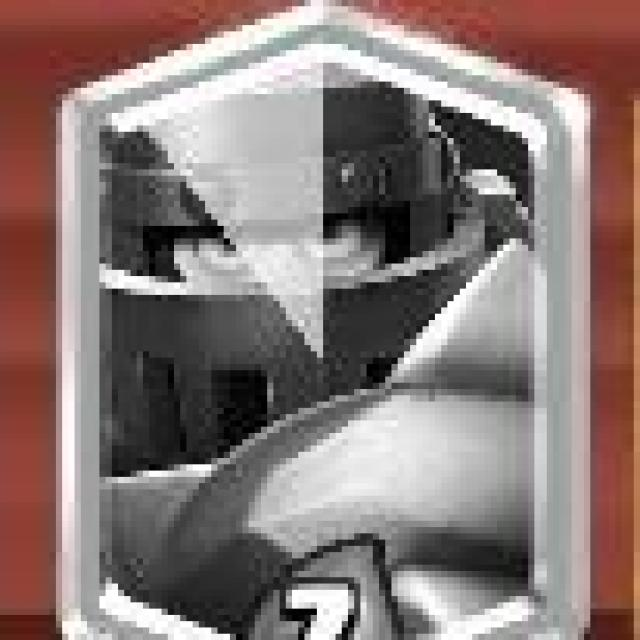Mega_Knight: (68, 6, 584, 640)
